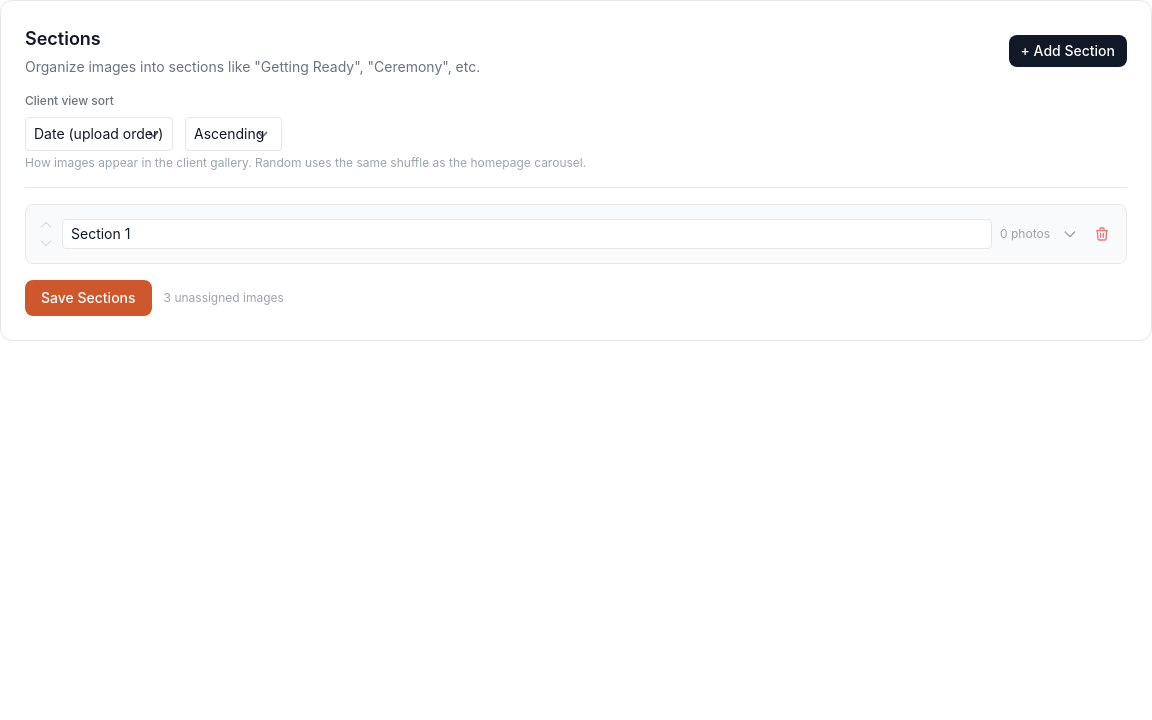
SectionManager › shows save error toast when update fails
Click the button "Save Sections": (88, 298) [25,280,152,316]
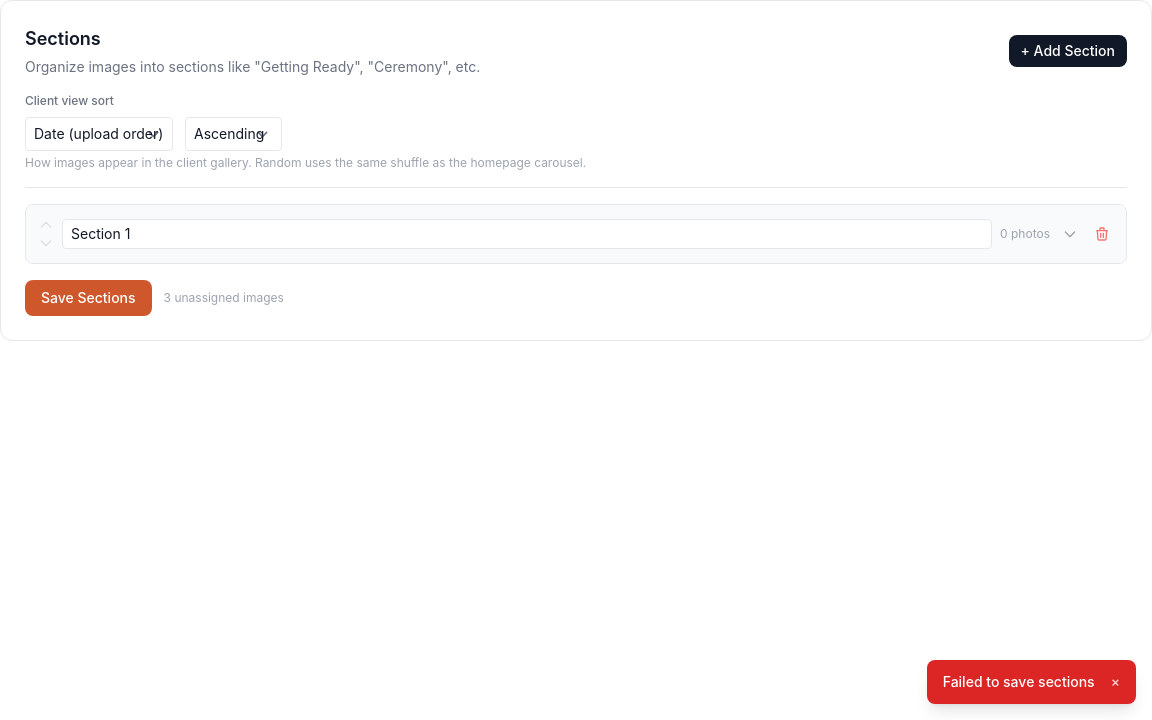
Now the message shows "Failed to save sections", box [943,673,1095,690]
